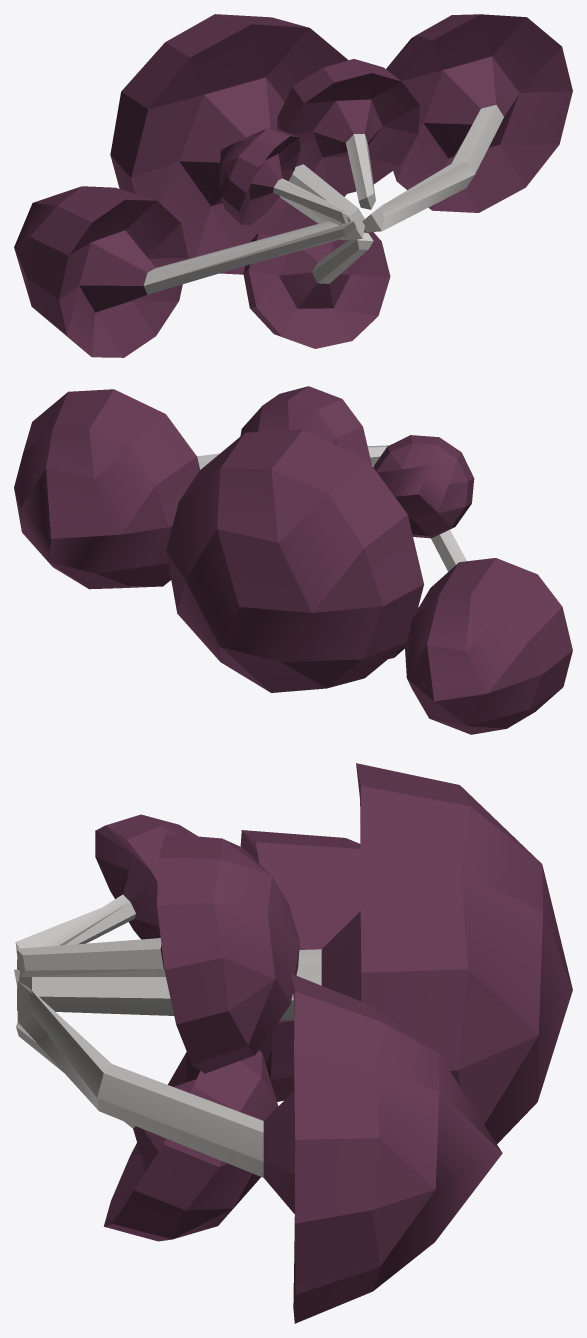
Rendered from Lepista_2.fbx.
3 renders of one model, top to bottom at view 1: azimuth 30°, elevation 25°; view 2: azimuth 150°, elevation 25°; view 3: azimuth 270°, elevation 25°, orthographic. The views are drawn at different scales.
Visible parts, largest first — view 1: Lepista_nuda_2_; view 2: Lepista_nuda_2_; view 3: Lepista_nuda_2_.
Boxes of the visible parts, box(x1,y1,x2,y2) form: Lepista_nuda_2_: box(14, 14, 572, 357); Lepista_nuda_2_: box(14, 386, 572, 734); Lepista_nuda_2_: box(14, 763, 572, 1323).
Bounding box in the file's own units: 82.37 × 40.49 × 46.49.
